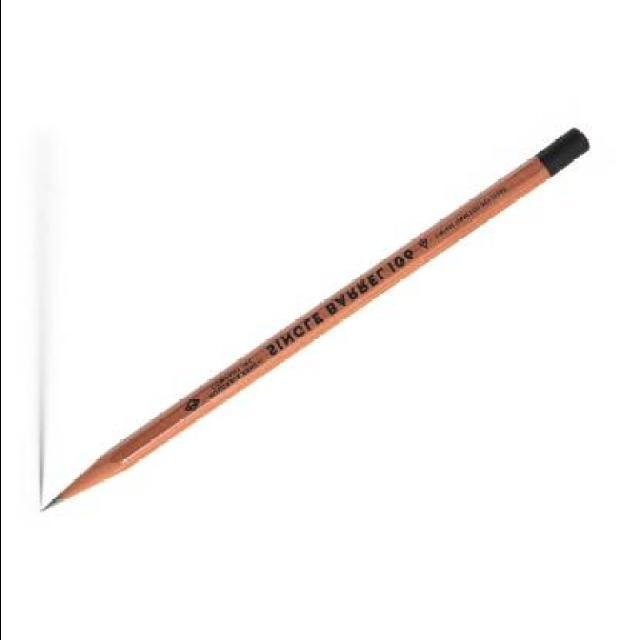pencil: (30, 441, 134, 524)
